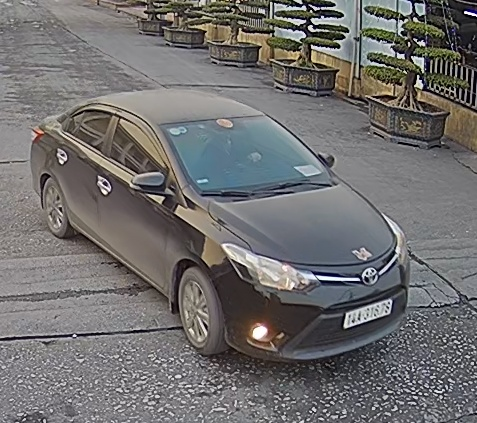vehicle plate: (337, 297, 396, 330)
